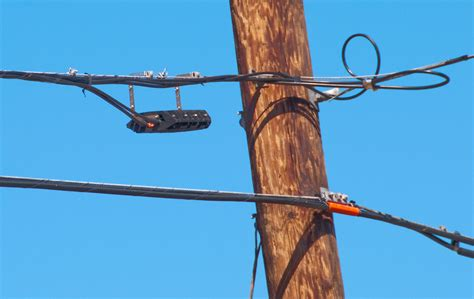pole: (205, 5, 399, 299)
